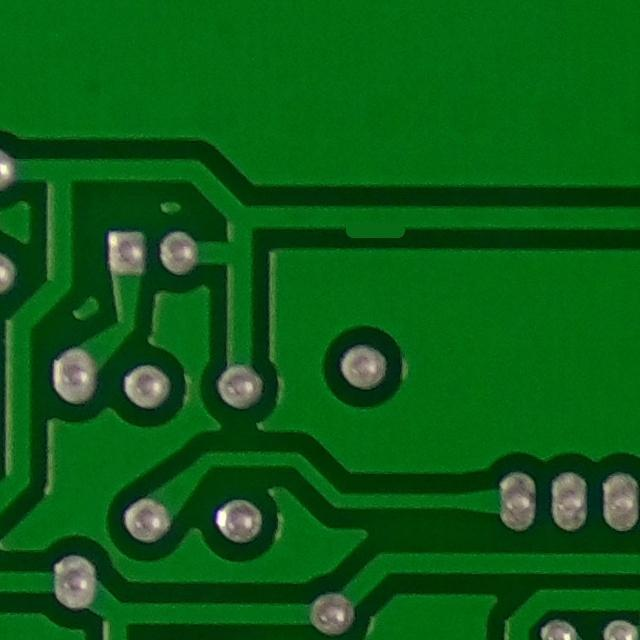spur: (326, 194, 422, 250)
